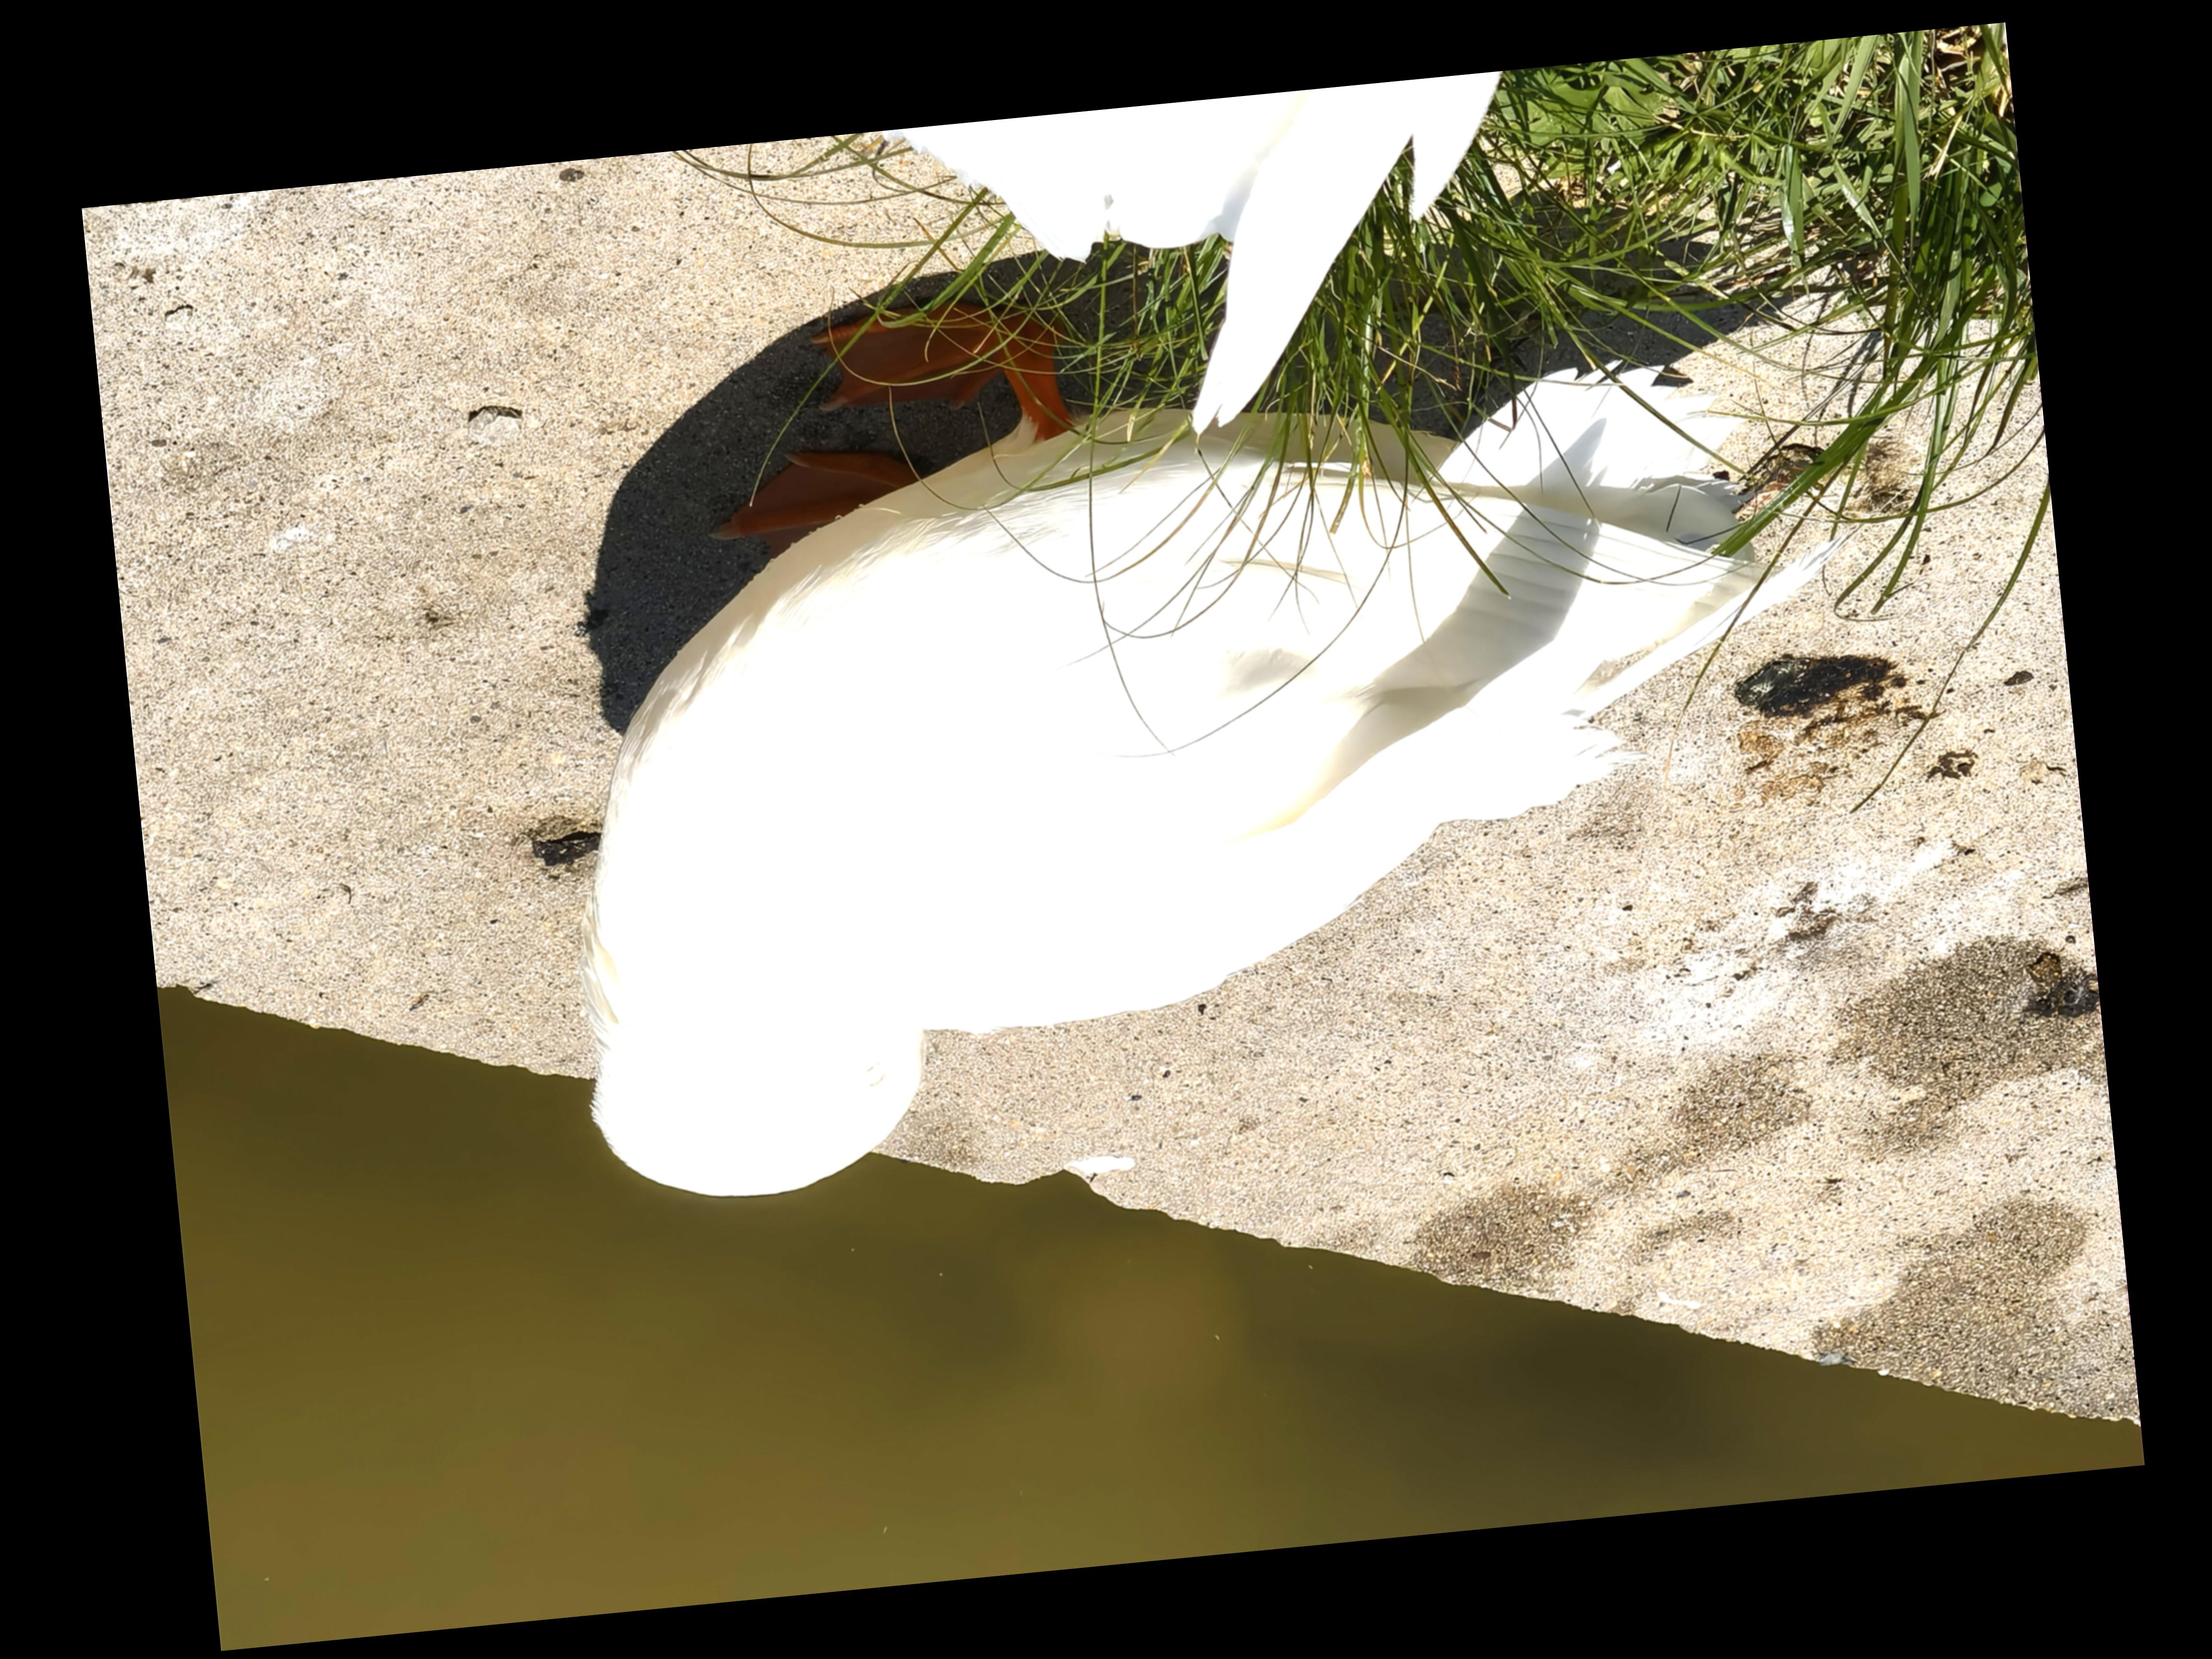duck: (491, 291, 1933, 1258)
